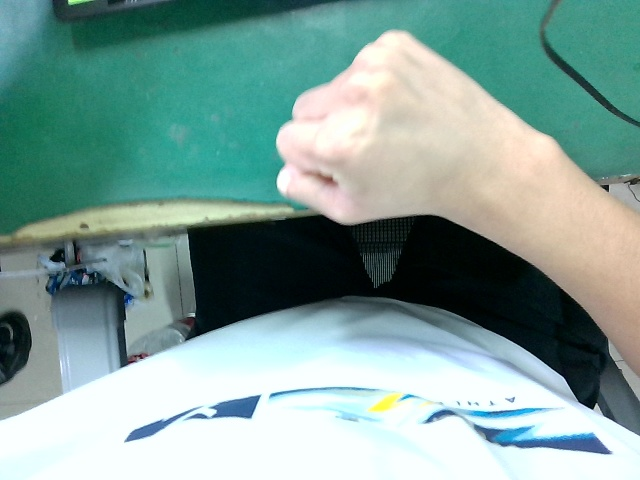stone: (273, 21, 530, 267)
